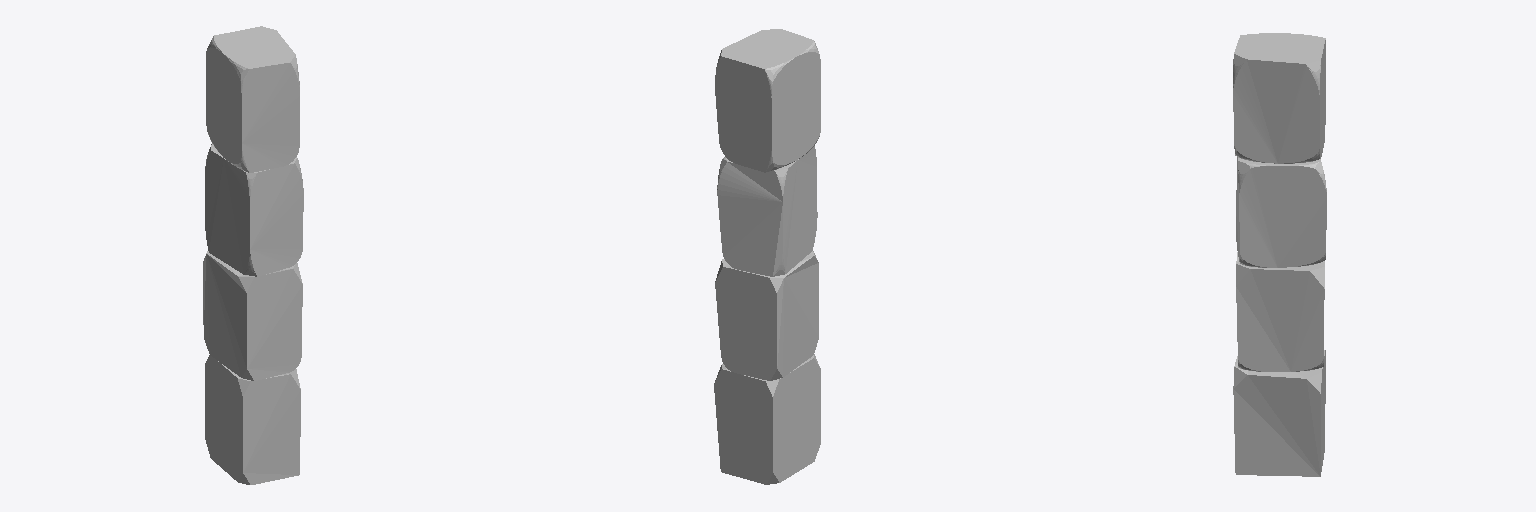
The model's file is säule.obj.
The picture shows the model from 3 angles: view 1: azimuth 30°, elevation 25°; view 2: azimuth 150°, elevation 25°; view 3: azimuth 270°, elevation 25°; orthographic projection.
Parts seen in each view (by area): view 1: Cube.003_Cube.002; view 2: Cube.003_Cube.002; view 3: Cube.003_Cube.002.
Boxes of the visible parts, x1=… form: Cube.003_Cube.002: x1=203, y1=26, x2=303, y2=484; Cube.003_Cube.002: x1=714, y1=29, x2=820, y2=484; Cube.003_Cube.002: x1=1233, y1=33, x2=1326, y2=476.
Size of the model in its own units: 0.4797 by 2.83 by 0.5795.